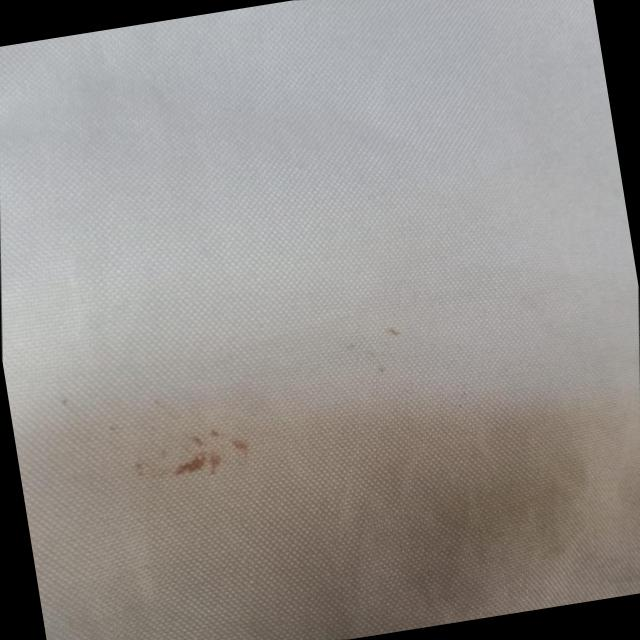stain: (248, 388, 632, 640), (126, 400, 256, 494)
